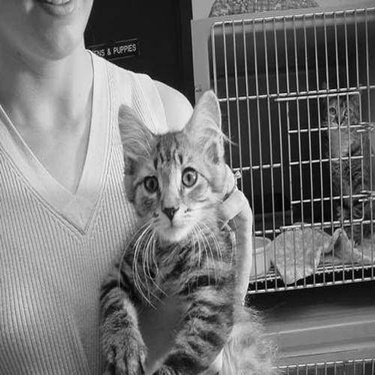cat: (57, 73, 265, 366), (305, 75, 372, 246)
